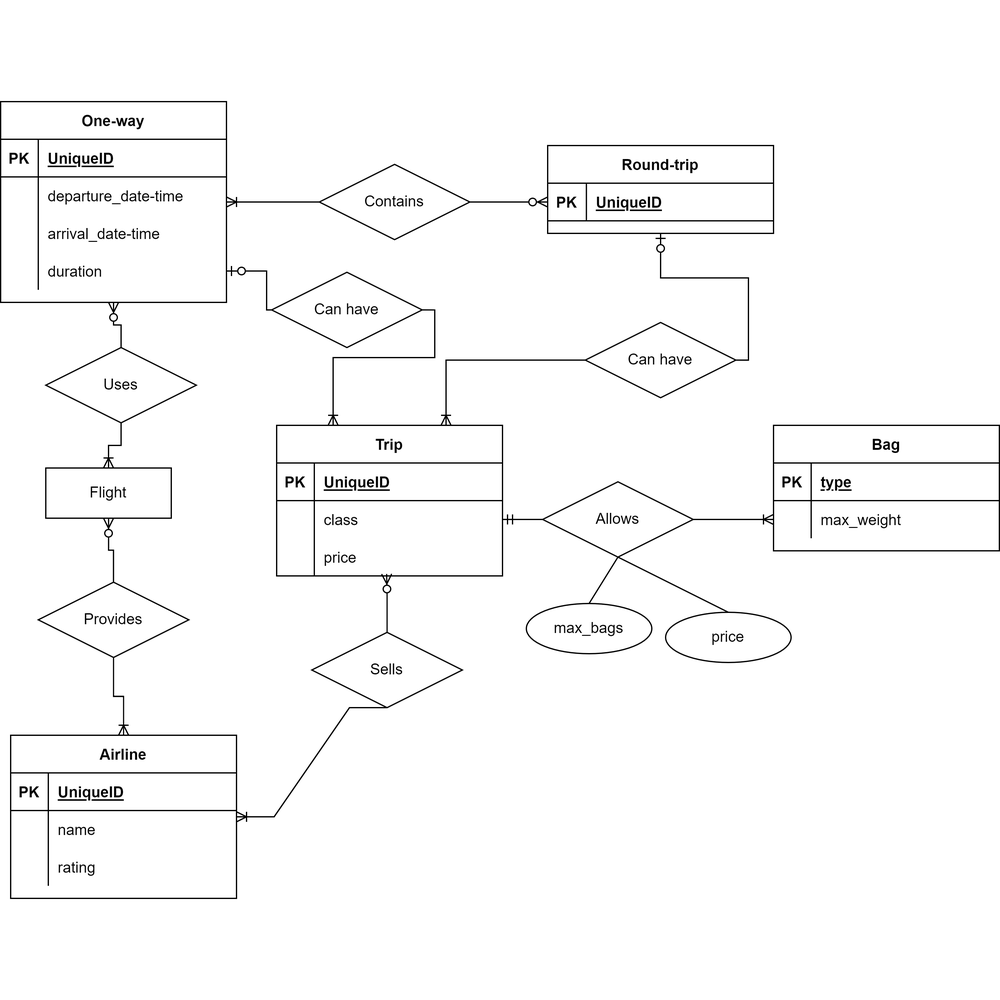attribute: (519, 602, 661, 657), (663, 609, 791, 664)
entity: (1, 93, 234, 307), (1, 731, 241, 909), (268, 420, 511, 583), (769, 422, 1000, 563), (538, 145, 784, 240), (38, 462, 179, 523)
relationship: (538, 475, 702, 565), (308, 633, 481, 714), (583, 318, 742, 403), (315, 161, 469, 248), (32, 583, 191, 667), (45, 345, 204, 426), (268, 273, 432, 350)
